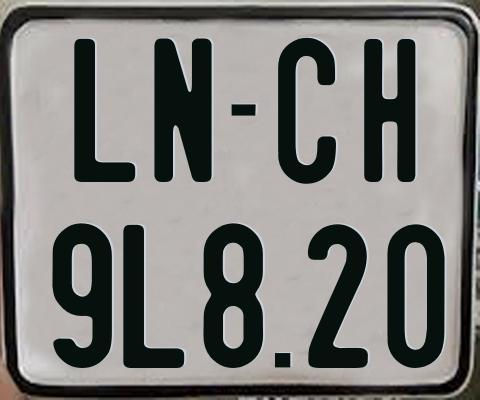0: (384, 222, 442, 366)
2: (306, 223, 372, 369)
8: (203, 221, 268, 370)
9: (52, 220, 113, 365)
C: (276, 38, 339, 189)
H: (364, 37, 416, 185)
L: (123, 224, 188, 368), (71, 38, 134, 186)
N: (154, 38, 218, 188)
